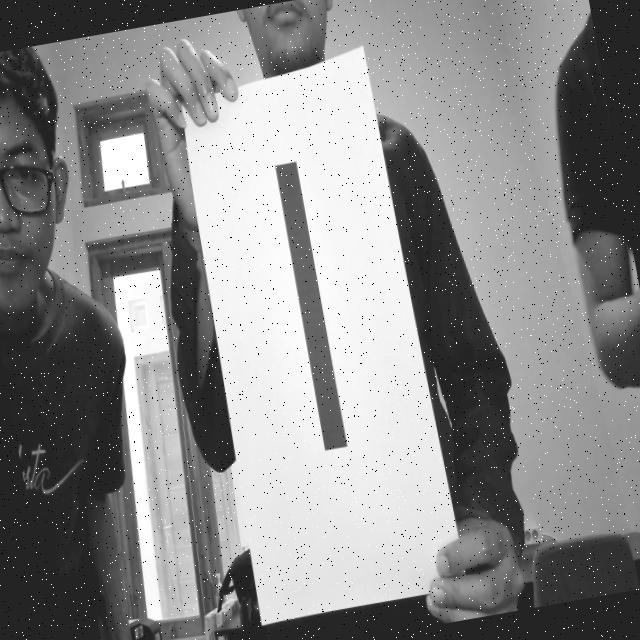i: (245, 135, 386, 484)
